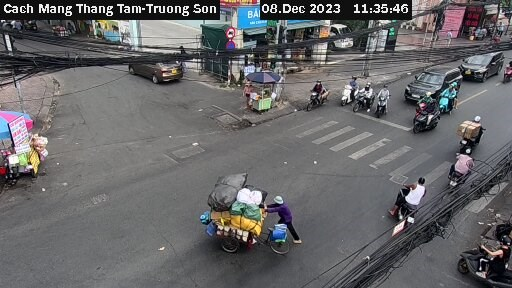car: (403, 63, 466, 101), (129, 50, 187, 83), (461, 46, 503, 84)
motorbike: (459, 234, 512, 284), (406, 95, 452, 145), (437, 145, 477, 196), (385, 180, 425, 228), (303, 76, 343, 121), (456, 113, 493, 153), (439, 86, 469, 120), (371, 89, 404, 115), (340, 80, 367, 104), (355, 88, 379, 114)
